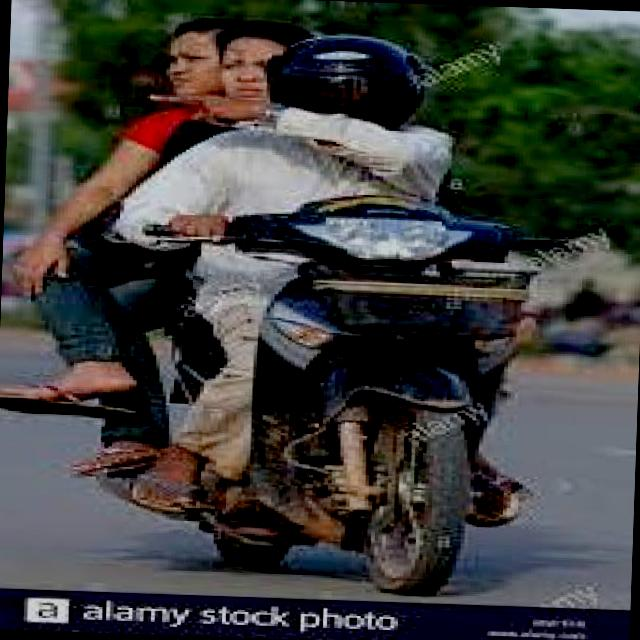motorcycle: (123, 178, 576, 596)
person: (202, 29, 459, 500), (78, 11, 266, 410), (183, 14, 339, 448)
rider_region: (28, 11, 518, 600)
